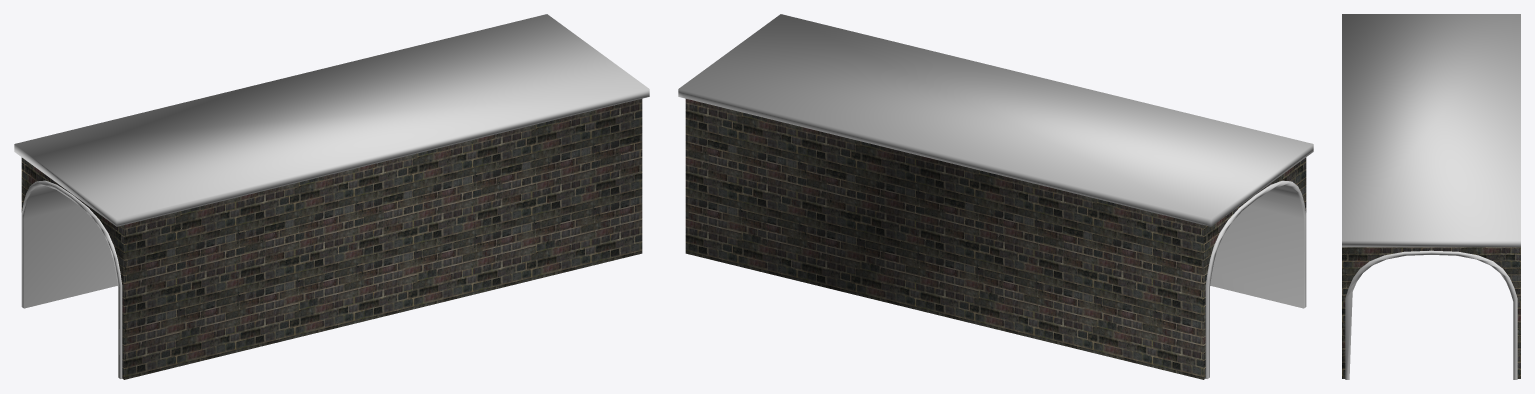
File: CityTunnel.dae
The picture shows the model from 3 angles, left to right: view 1: azimuth 30°, elevation 25°; view 2: azimuth 150°, elevation 25°; view 3: azimuth 270°, elevation 25°; orthographic projection. The views are drawn at different scales.
Visible parts, largest first — view 1: TTR_SMCityTunnel; view 2: TTR_SMCityTunnel; view 3: TTR_SMCityTunnel.
Part boxes in pixels (<box>): TTR_SMCityTunnel: <box>14,14,649,379</box>; TTR_SMCityTunnel: <box>678,14,1313,379</box>; TTR_SMCityTunnel: <box>1342,14,1520,379</box>.
Size of the model in its own units: 34.56 by 11.52 by 10.09.
Materials: 2 (1 with a texture image).
